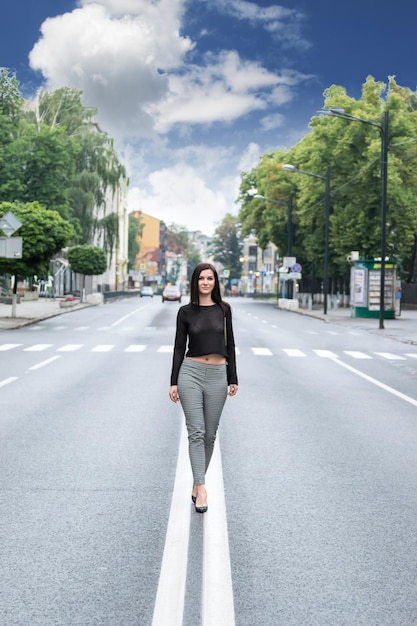Person: (158, 257, 241, 513)
